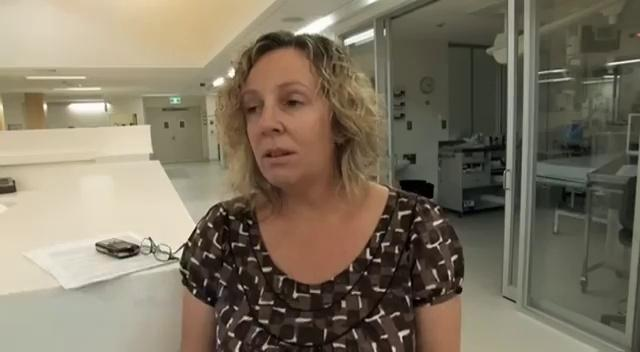others: (177, 29, 465, 351)
